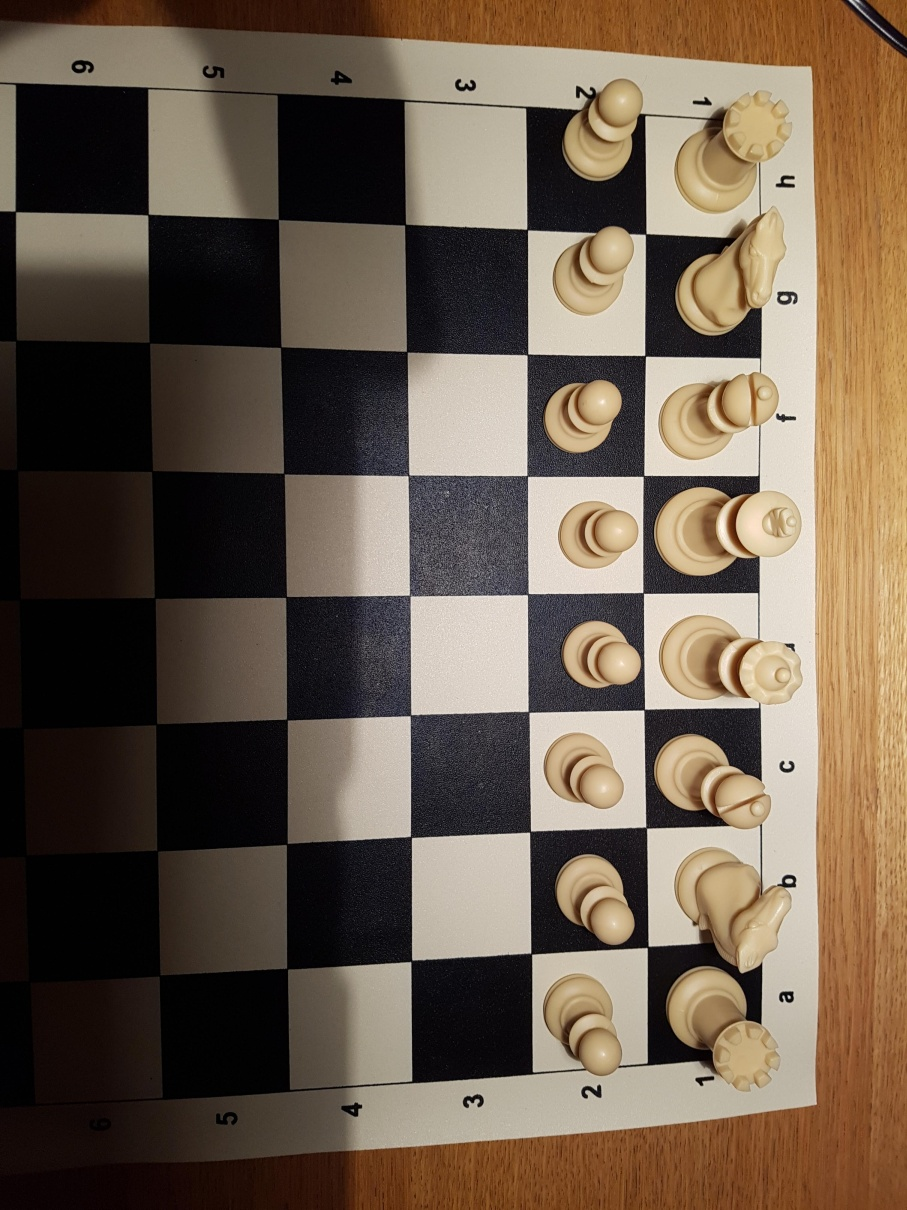chess_bishop: (651, 727, 773, 833), (658, 371, 782, 459)
chess_king: (649, 482, 801, 577)
chess_knight: (672, 845, 796, 972), (674, 210, 786, 337)
chess_pawn: (540, 972, 623, 1080), (552, 848, 639, 951), (557, 78, 643, 180), (541, 727, 629, 813), (550, 225, 633, 316), (541, 376, 622, 454), (560, 618, 640, 692), (557, 499, 637, 571)
chess_queen: (654, 610, 802, 708)
chess_rook: (674, 90, 794, 217), (664, 965, 780, 1096)
